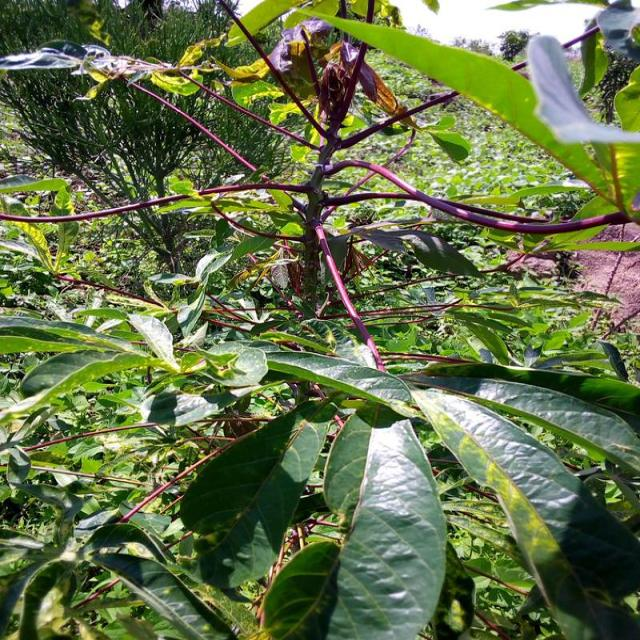cassava leaf: (1, 0, 638, 638), (408, 383, 638, 638), (178, 397, 336, 590), (323, 413, 447, 638)
